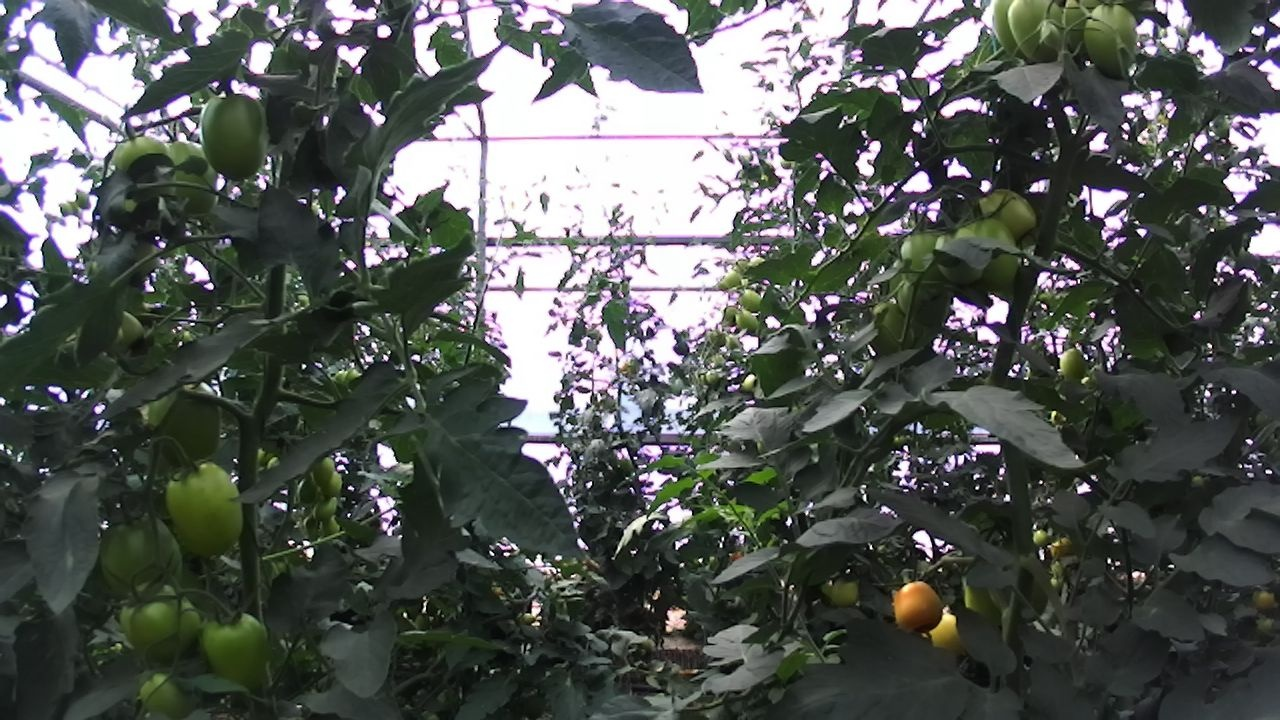tomato: (80, 495, 206, 629), (149, 436, 262, 574), (105, 563, 225, 684), (184, 588, 294, 704), (193, 78, 290, 201), (138, 365, 240, 473), (949, 195, 1031, 302), (144, 130, 231, 224), (1075, 0, 1154, 91), (104, 125, 190, 202), (996, 0, 1078, 78), (892, 222, 965, 301), (856, 289, 929, 367), (968, 179, 1044, 253), (926, 217, 997, 295), (882, 572, 954, 647), (912, 598, 984, 671), (892, 264, 964, 337), (121, 658, 205, 720), (977, 0, 1040, 73), (1053, 0, 1108, 71), (1047, 335, 1103, 393), (817, 564, 870, 615), (308, 454, 338, 491), (310, 493, 342, 526), (735, 284, 768, 315), (732, 305, 763, 338), (293, 474, 323, 507), (318, 468, 348, 501), (316, 508, 346, 541), (1028, 525, 1054, 553), (737, 369, 763, 395), (719, 303, 746, 327), (722, 267, 745, 290), (706, 327, 730, 349), (722, 331, 743, 353), (703, 367, 722, 386)
